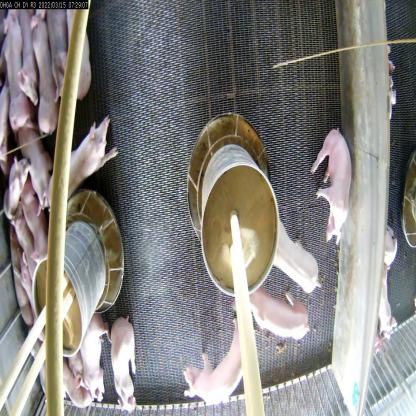Pig: (177, 310, 260, 407), (52, 110, 110, 207), (313, 118, 354, 238), (266, 218, 322, 301), (247, 281, 314, 343), (24, 12, 57, 134), (105, 313, 140, 415), (1, 3, 26, 138), (76, 313, 107, 406), (22, 175, 48, 265)
